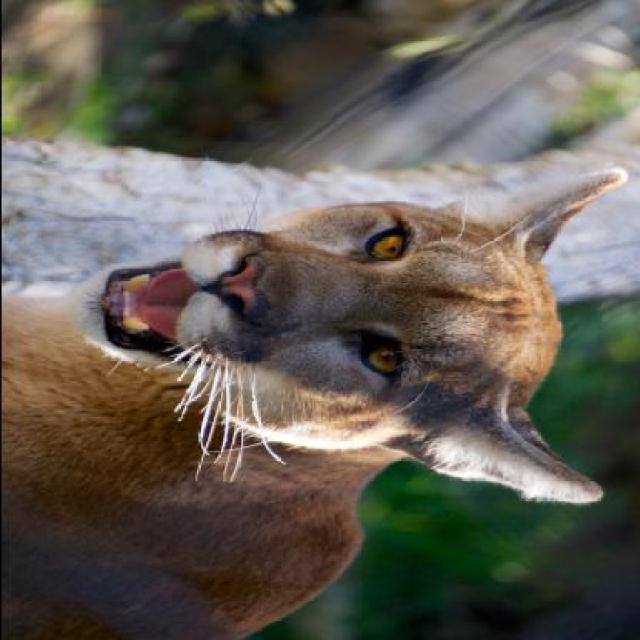Lion: (1, 143, 618, 637)
